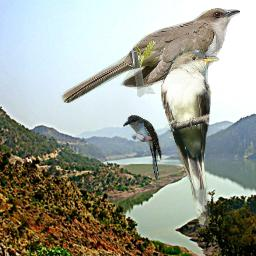Cuckoo: (60, 7, 240, 103), (161, 49, 219, 229), (123, 115, 162, 180)
